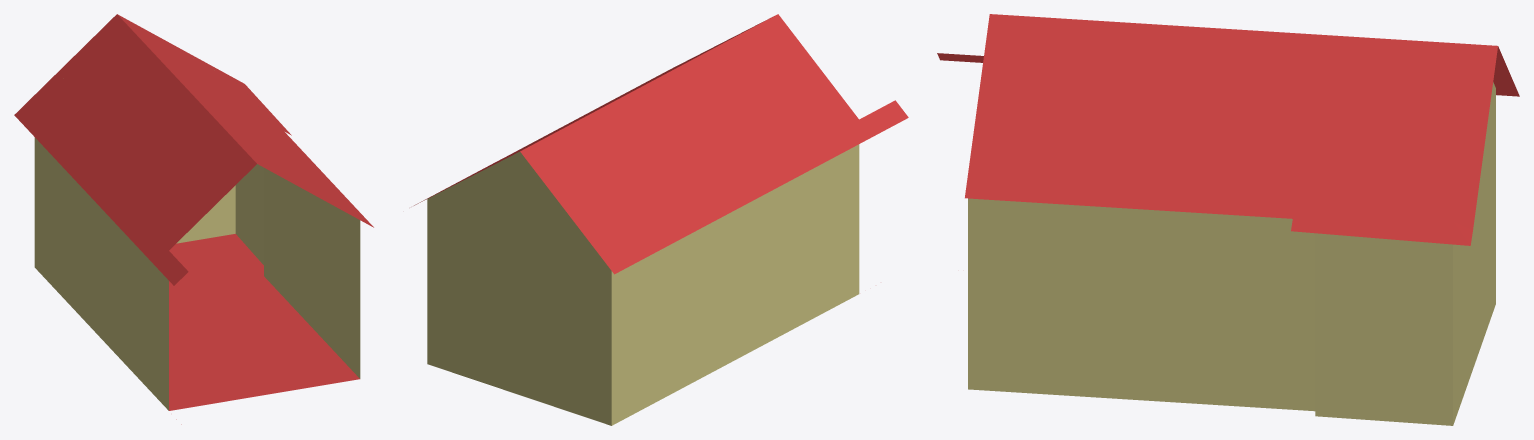
The picture shows the model from 3 angles, left to right: view 1: azimuth 30°, elevation 25°; view 2: azimuth 150°, elevation 25°; view 3: azimuth 270°, elevation 25°; orthographic projection. The views are drawn at different scales.
Size of the model in its own units: 14.76 by 20.66 by 12.24.
